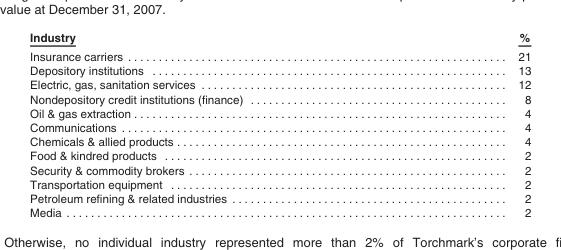table: (29, 29, 530, 218)
table column: (29, 29, 379, 218), (379, 29, 530, 218)
table row: (29, 29, 530, 46), (29, 46, 530, 62), (29, 62, 530, 77), (29, 133, 530, 148), (29, 190, 530, 205), (29, 77, 530, 91), (29, 91, 530, 105), (29, 105, 530, 119), (29, 119, 530, 133), (29, 148, 530, 162), (29, 162, 530, 176), (29, 176, 530, 190), (29, 205, 530, 218)
